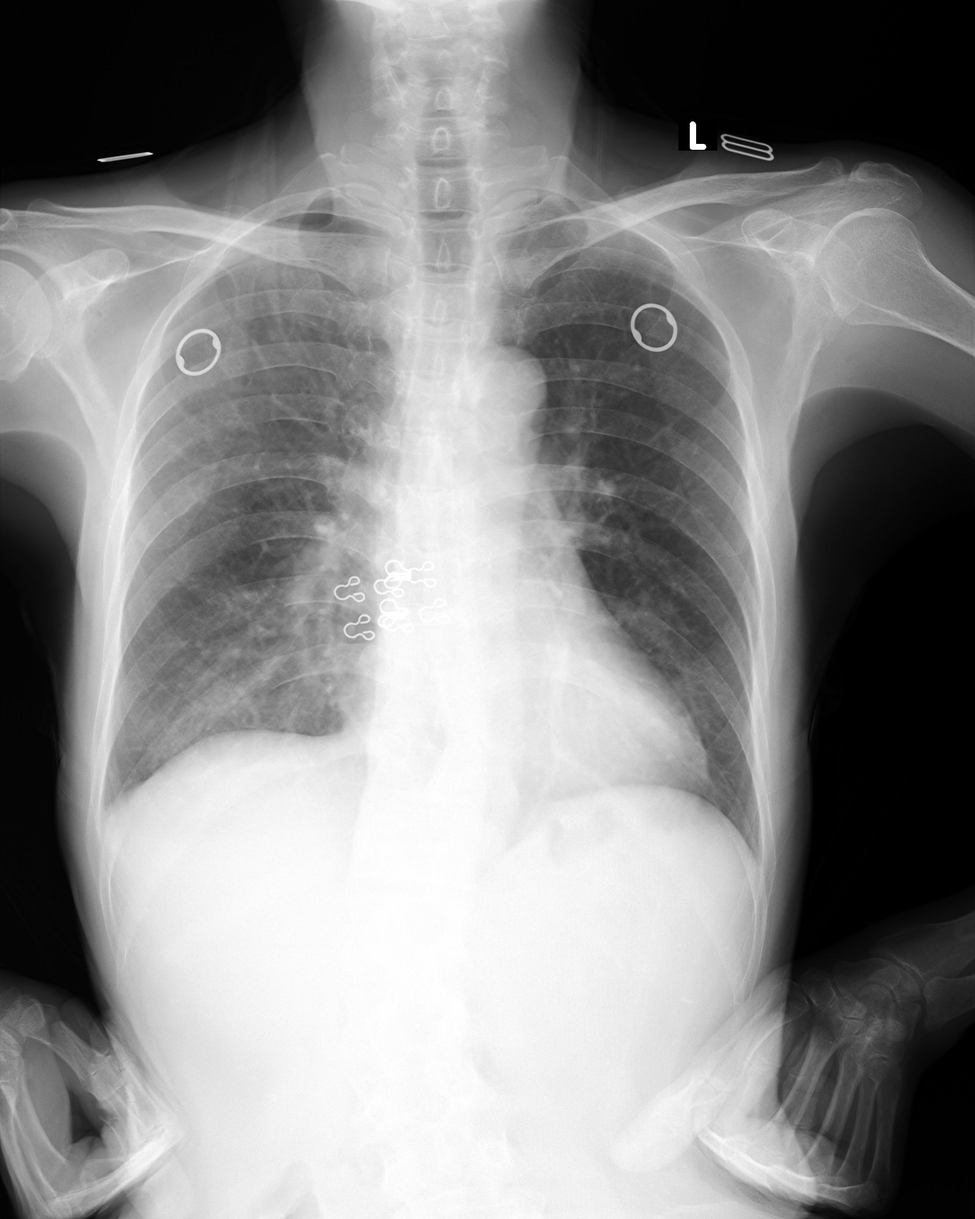Cardiomegaly: (351, 659, 710, 797)
